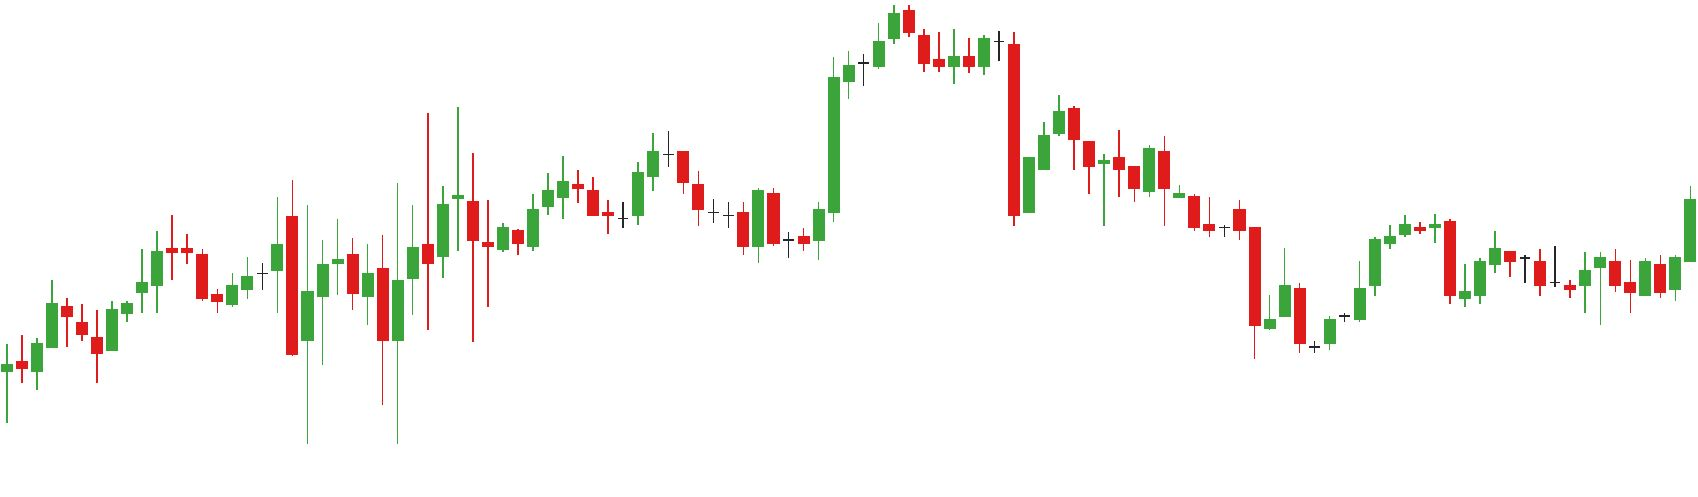buy: (91, 272, 315, 445), (601, 176, 763, 264)
